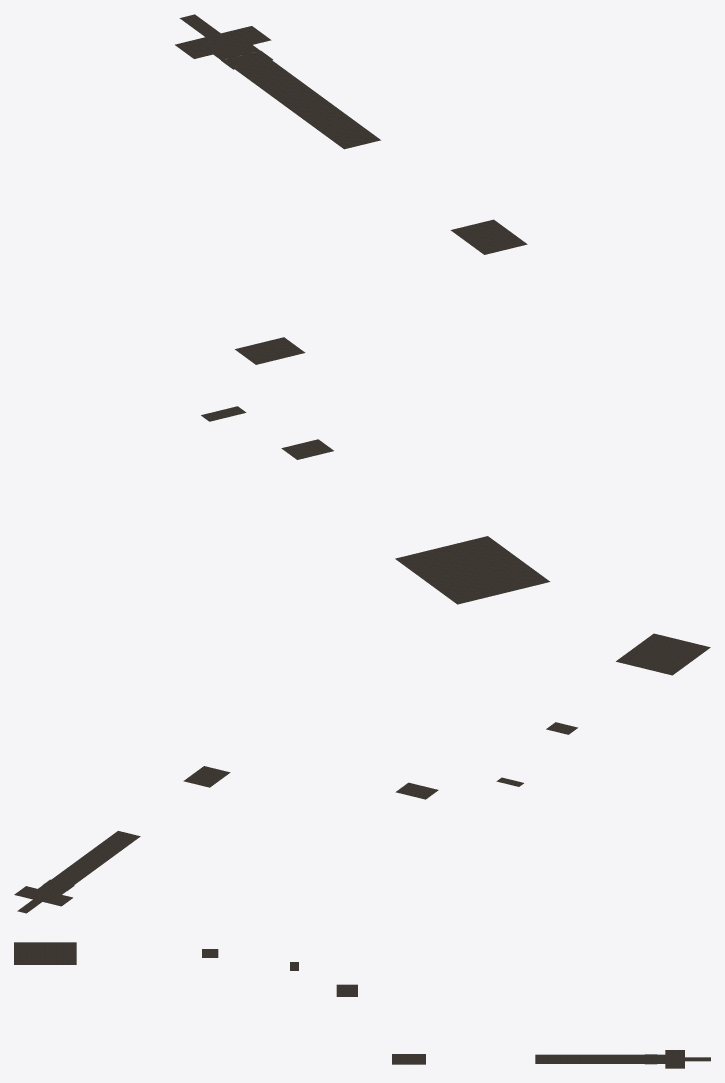
File: floor_stone.glb
3 views of the same model, one above another, from view 1: azimuth 30°, elevation 25°; view 2: azimuth 150°, elevation 25°; view 3: azimuth 270°, elevation 25° (orthographic). The views are drawn at different scales.
Visible parts, largest first — view 1: floor_stone; view 2: floor_stone; view 3: floor_stone.
Part boxes in pixels (bbox=[...]): floor_stone: bbox=[175, 14, 550, 604]; floor_stone: bbox=[14, 633, 710, 913]; floor_stone: bbox=[14, 942, 710, 1068].
Bounding box in the file's own units: 300 × 16.02 × 778.
1 material, 1 textured.
